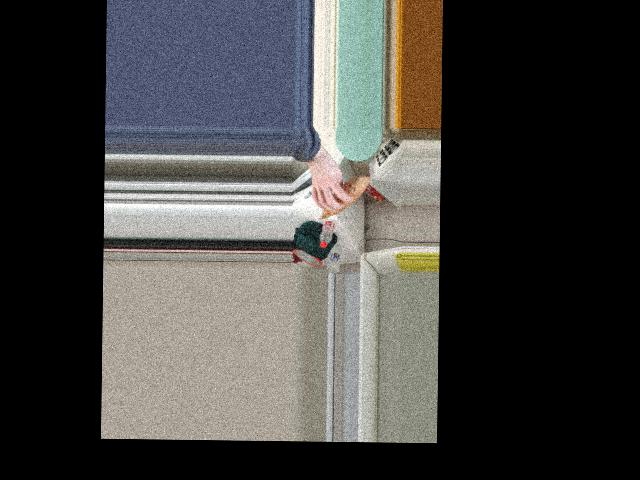sweet_potato: (316, 175, 366, 218)
